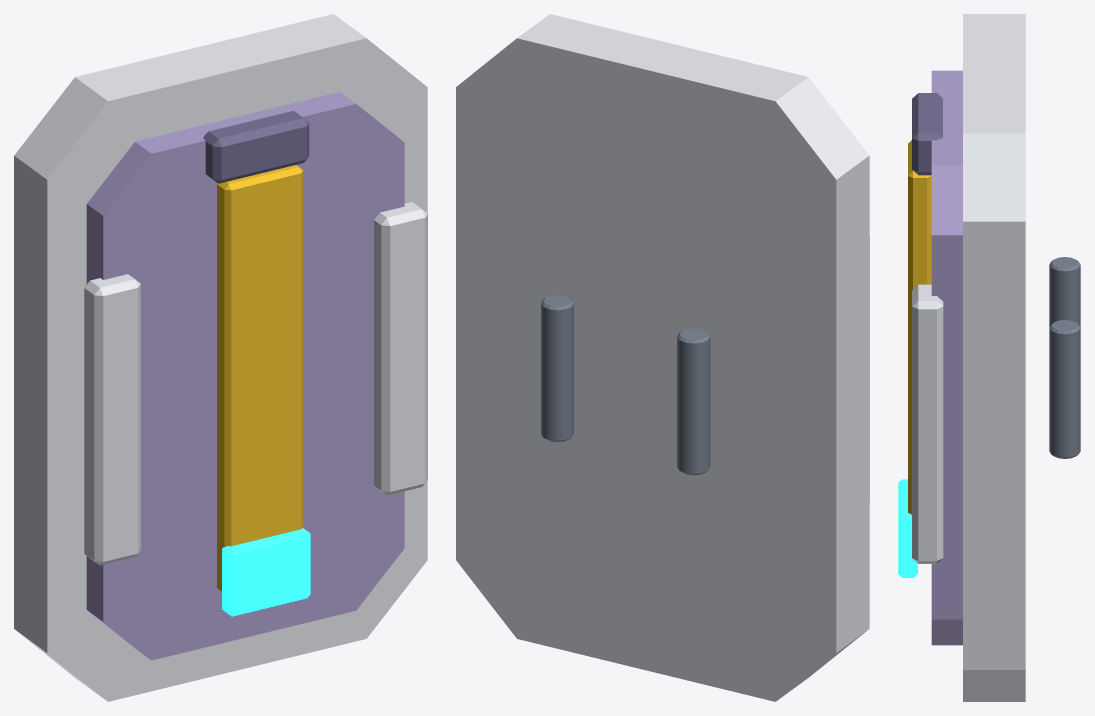
Rendered from Future_Shield_v001.fbx.
3 views of the same model, side by side, from view 1: azimuth 30°, elevation 25°; view 2: azimuth 150°, elevation 25°; view 3: azimuth 270°, elevation 25° (orthographic). The views are drawn at different scales.
Parts seen in each view (by area): view 1: Future_Shield__RECEIVER_MESH; view 2: Future_Shield__RECEIVER_MESH; view 3: Future_Shield__RECEIVER_MESH.
Part boxes in pixels (x1=…): Future_Shield__RECEIVER_MESH: x1=14, y1=14, x2=427, y2=701; Future_Shield__RECEIVER_MESH: x1=456, y1=14, x2=869, y2=701; Future_Shield__RECEIVER_MESH: x1=898, y1=14, x2=1080, y2=701.
Bounding box in the file's own units: 1.06 × 1.6 × 0.465.
